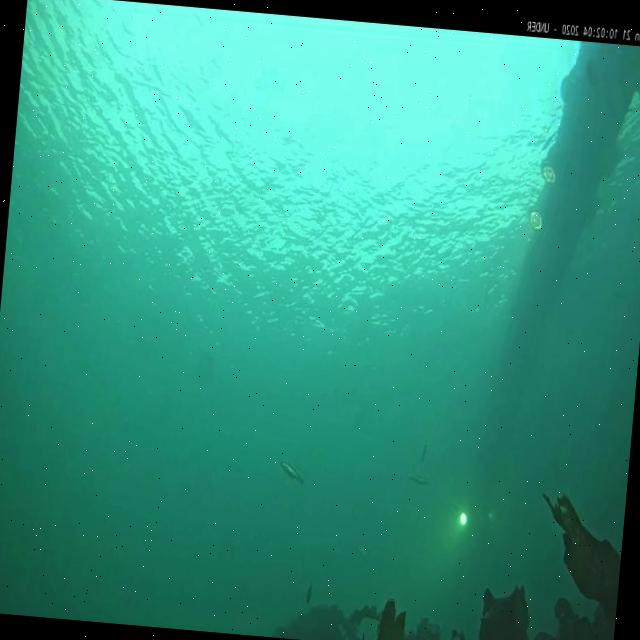fish: (276, 460, 306, 488), (408, 472, 430, 486), (304, 579, 313, 606)
